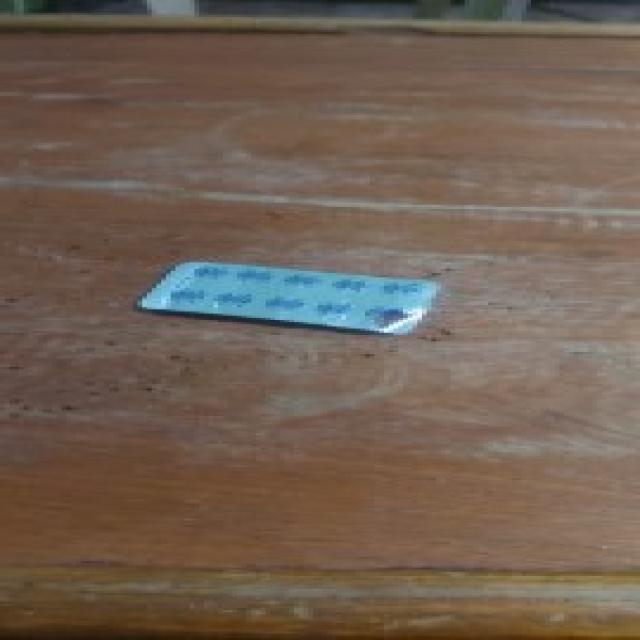Cacat: (130, 258, 448, 330)
Kemasan: (355, 301, 422, 328)
